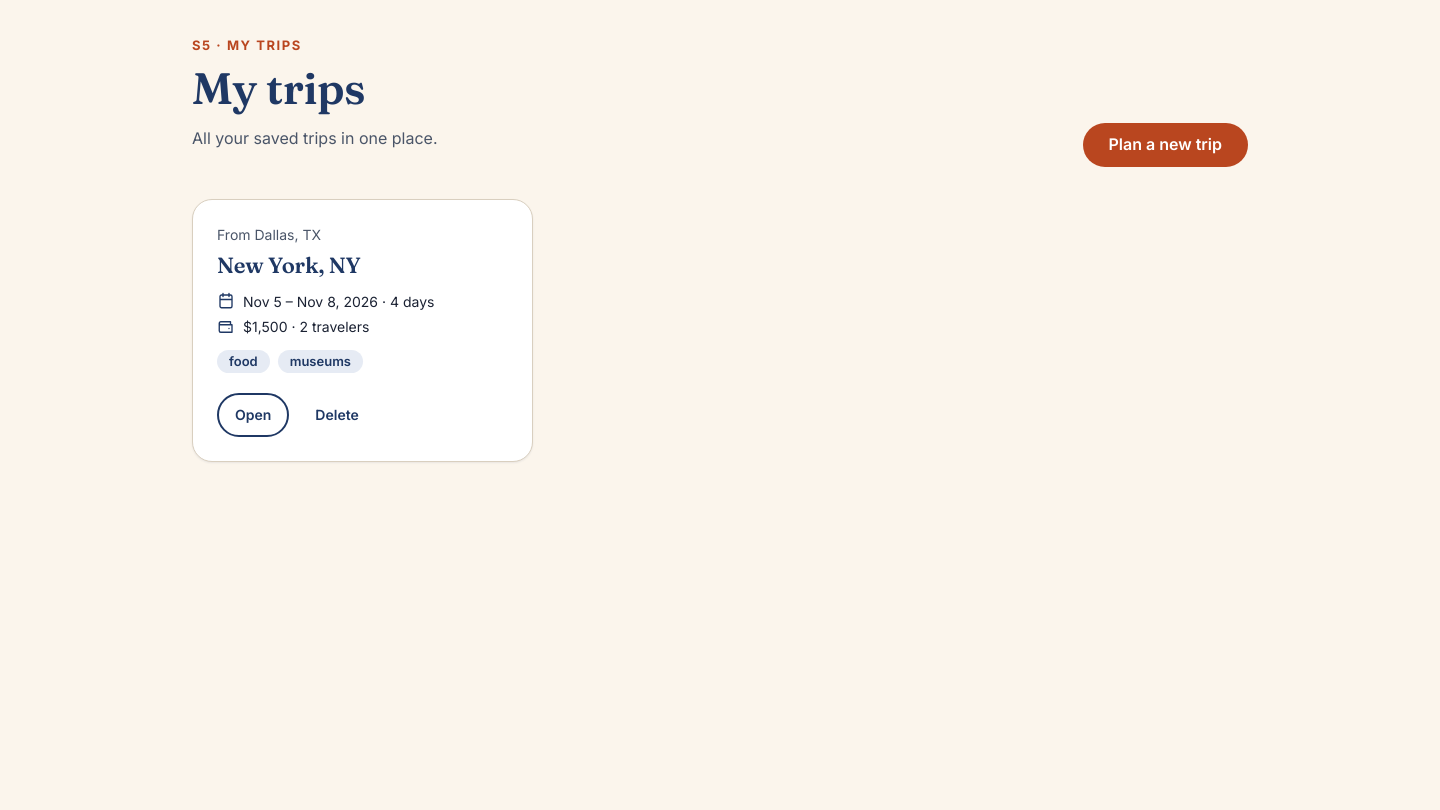
it: MyTrips › deletes a trip after confirming
The image size is (1440, 810).
Click the button "Delete": point(337, 416) [297, 394, 377, 438]
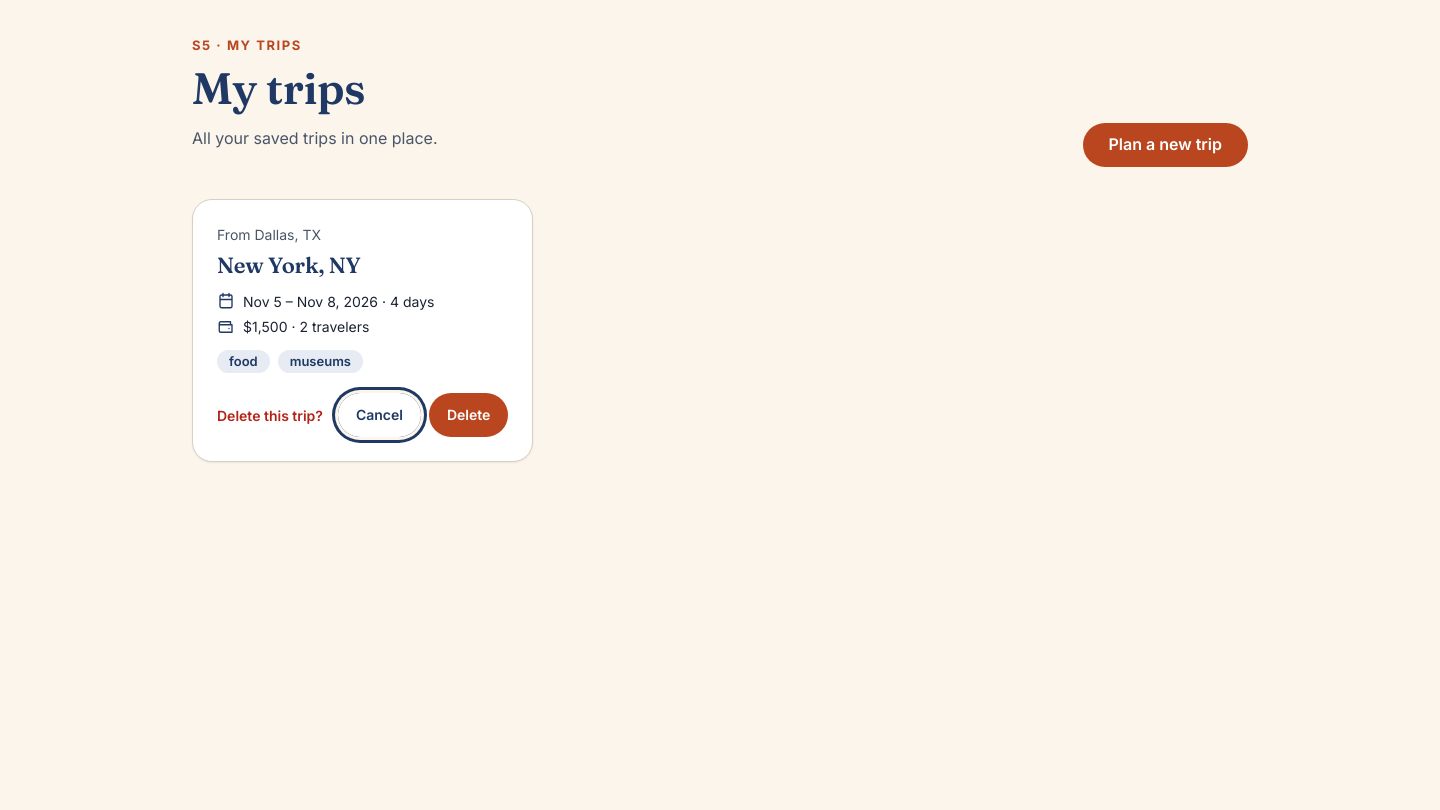
expect the text "Delete this trip?" is shown: met, box [217, 405, 323, 426]
Click the button "Delete": point(469, 416) [429, 394, 508, 438]
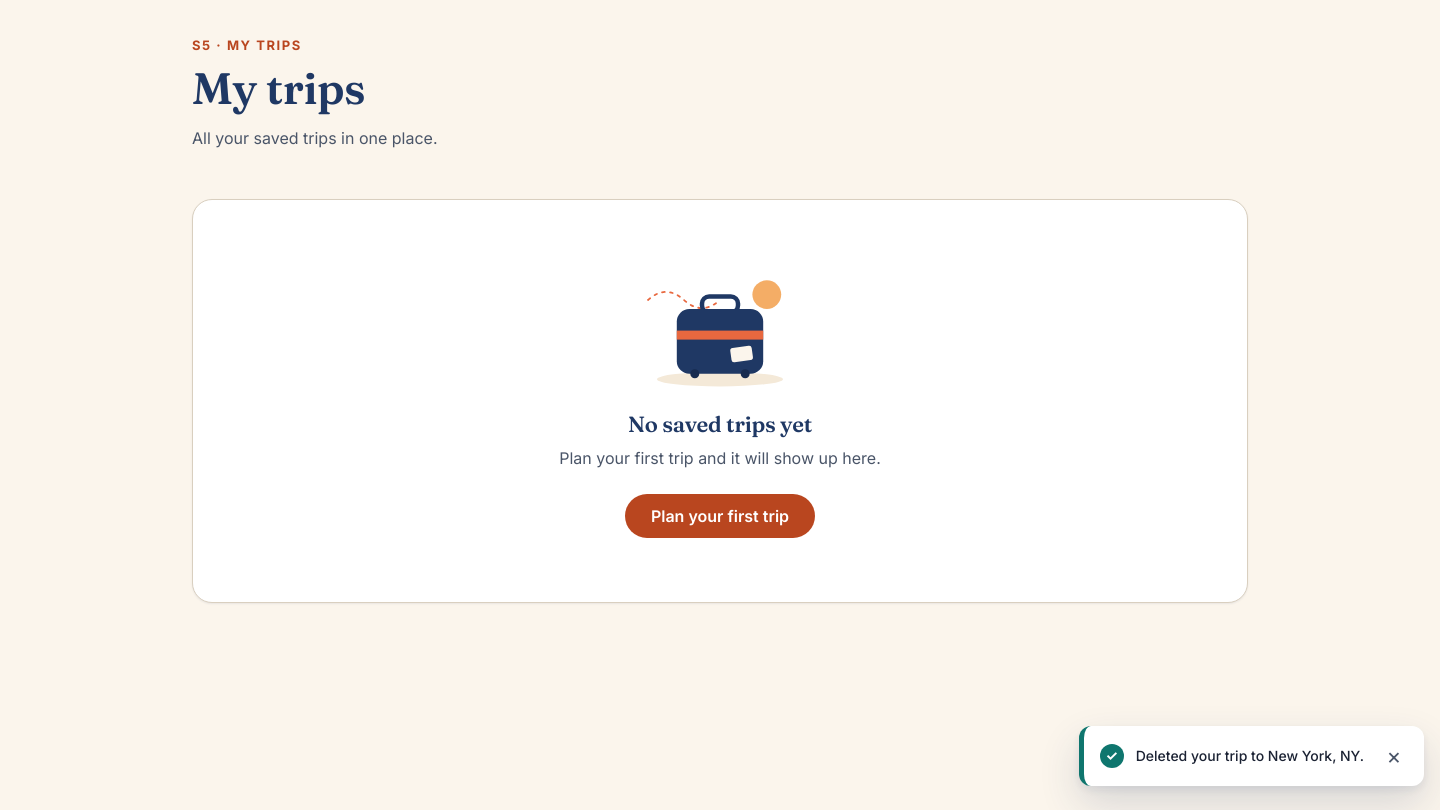
expect the heading "No saved trips yet" is shown: met, box [628, 412, 812, 438]
